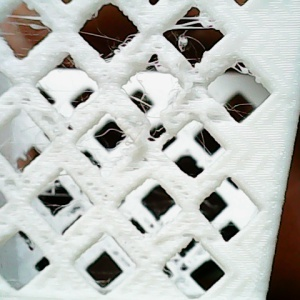3dpstringing: (1, 12, 50, 53), (167, 13, 218, 51), (75, 28, 139, 53), (39, 172, 74, 217), (3, 122, 41, 153), (125, 75, 148, 120), (95, 126, 128, 154), (228, 61, 265, 84), (219, 102, 254, 120), (196, 127, 211, 166)
3dpunderextrusion: (80, 173, 124, 213), (177, 75, 216, 115), (37, 112, 85, 142), (3, 169, 37, 206), (131, 120, 169, 151)
